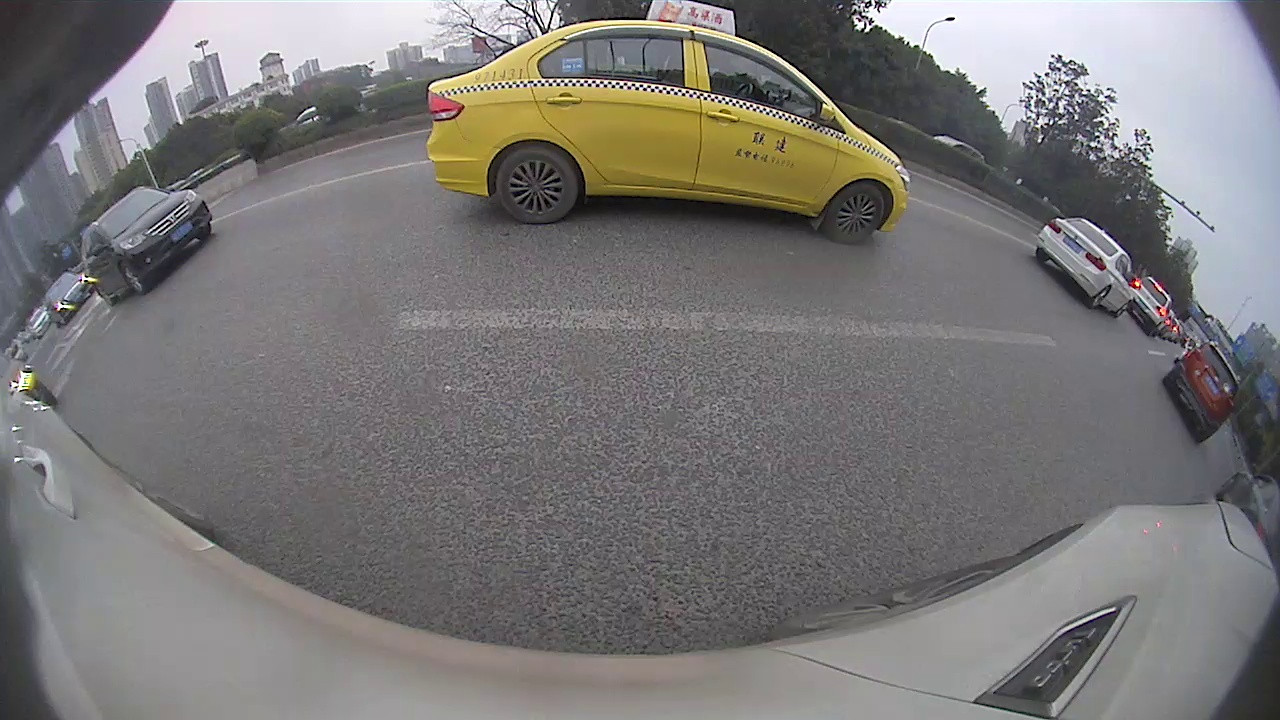car: (425, 1, 908, 246), (79, 188, 211, 304), (1036, 217, 1132, 316), (1162, 344, 1239, 441), (42, 271, 93, 327), (1129, 277, 1171, 337)
front: (823, 182, 887, 245), (121, 261, 146, 295)
rear: (495, 142, 579, 225), (1088, 286, 1111, 310), (94, 287, 115, 308)
